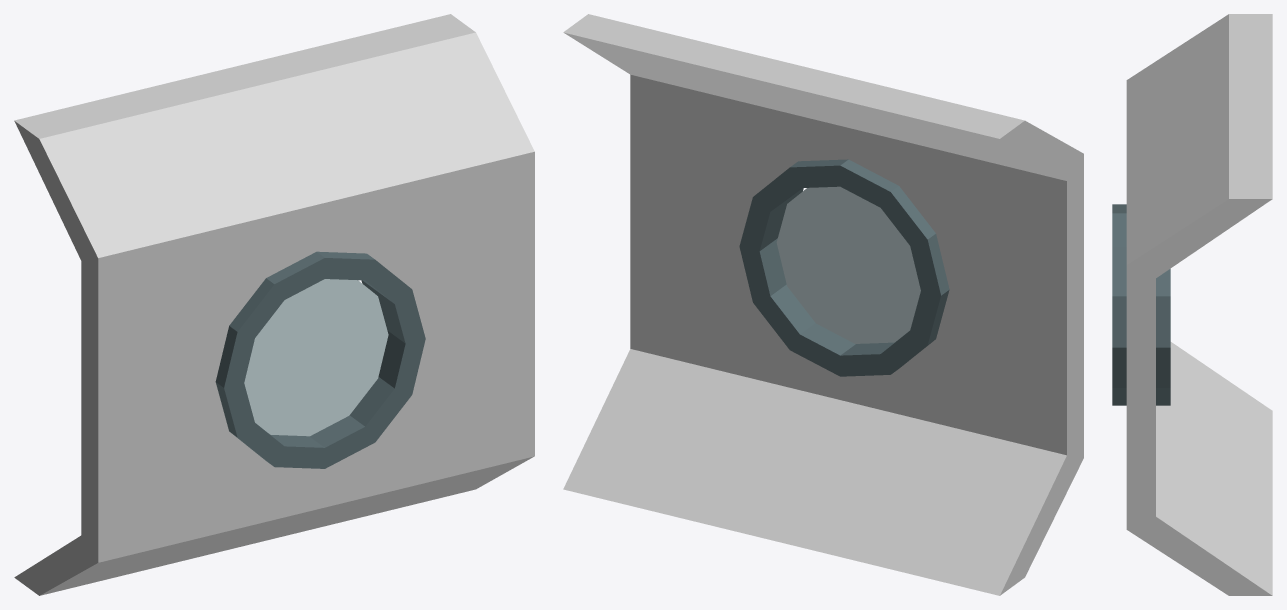
File: scifi_wall_bowed_window_round.fbx
3 renders of one model, left to right at view 1: azimuth 30°, elevation 25°; view 2: azimuth 150°, elevation 25°; view 3: azimuth 270°, elevation 25°, orthographic. The views are drawn at different scales.
Parts seen in each view (by area): view 1: Cube.015; view 2: Cube.015; view 3: Cube.015.
Boxes of the visible parts, x1=… form: Cube.015: x1=14, y1=14, x2=534, y2=595; Cube.015: x1=563, y1=14, x2=1083, y2=595; Cube.015: x1=1112, y1=14, x2=1272, y2=595.
Size of the model in its own units: 3 by 3 by 1.1.
